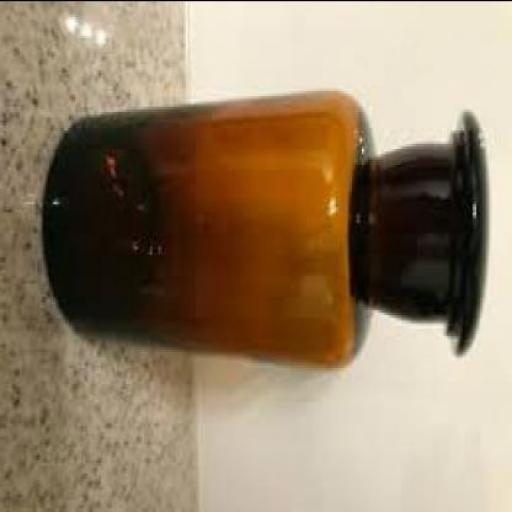glass: (50, 89, 488, 370)
